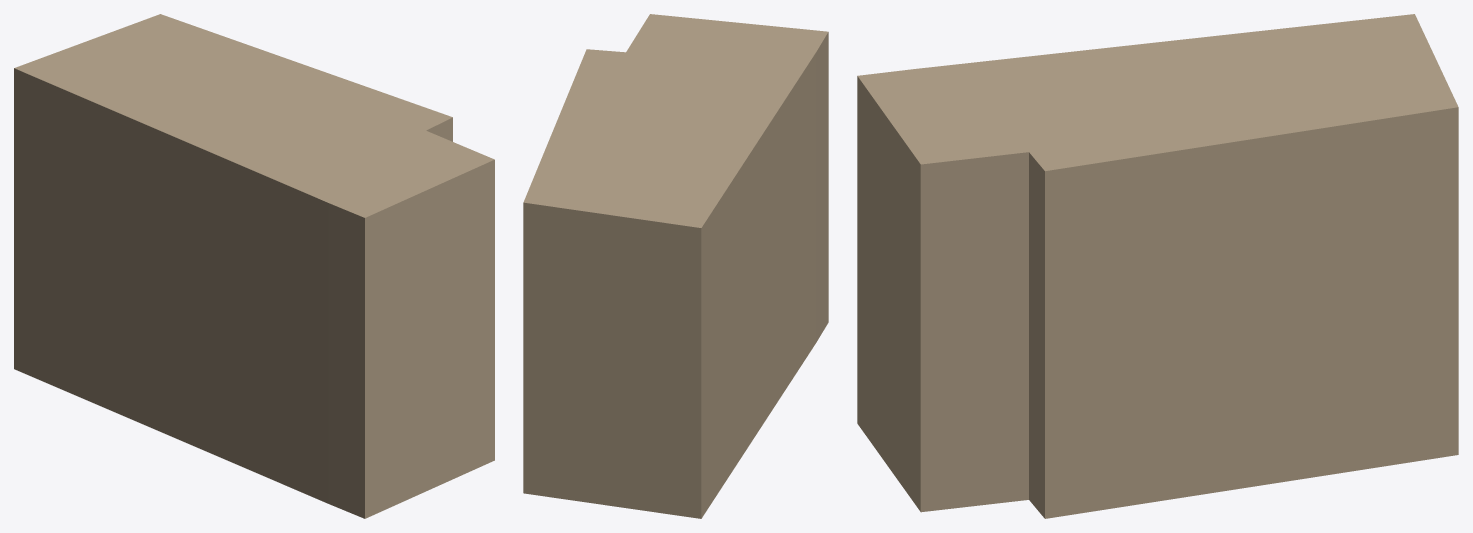
Rendered from bld_99003286.dae.
3 views of the same model, side by side, from view 1: azimuth 30°, elevation 25°; view 2: azimuth 150°, elevation 25°; view 3: azimuth 270°, elevation 25° (orthographic). The views are drawn at different scales.
Visible parts, largest first — view 1: Church & Hawes; view 2: Church & Hawes; view 3: Church & Hawes.
Boxes of the visible parts, left/top/right/bottom form: Church & Hawes: left=14, top=14, right=494, bottom=518; Church & Hawes: left=523, top=14, right=828, bottom=518; Church & Hawes: left=857, top=14, right=1458, bottom=518.
Size of the model in its own units: 7.76 by 12.54 by 8.
